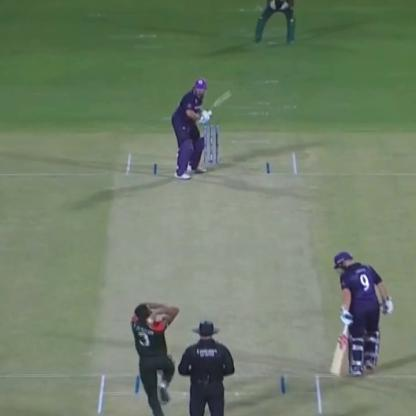ball: (142, 314, 157, 325)
bat: (329, 319, 351, 373), (204, 81, 235, 116)
pitch: (89, 146, 329, 416)
